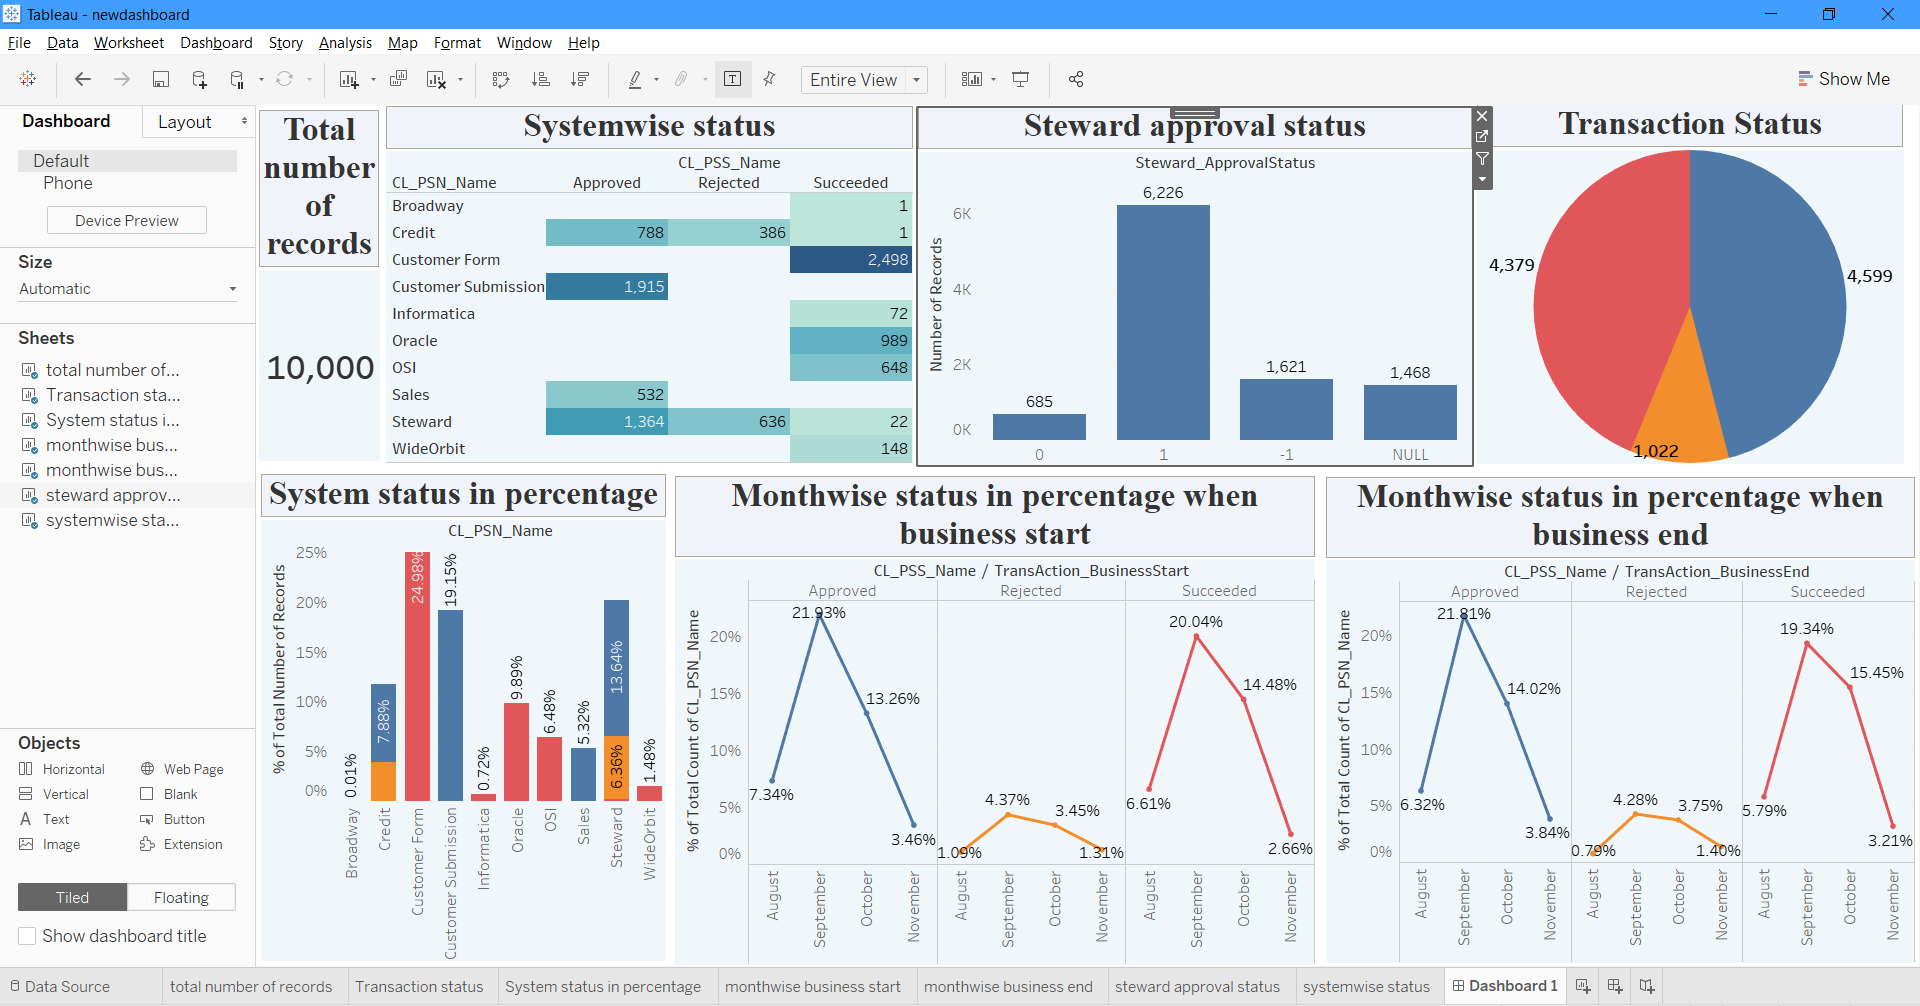

The dashboard page shown, as its layout file describes it:
{"tool":"tableau","page":{"name":"Dashboard 1","canvas":[1000,1000],"units":"permille","ordinal":0},"visuals":[{"type":"worksheet","title":"systemwise status","mark":"Square","rows":["CL_PSN_Name"],"cols":["CL_PSS_Name"],"box":[78.2,1.2,318.7,415.8]},{"type":"worksheet","title":"steward approval status","mark":"Automatic","rows":["Number of Records"],"cols":["Steward_ApprovalStatus"],"box":[398.1,1.2,333.1,417]},{"type":"worksheet","title":"total number of records","mark":"Automatic","box":[1.8,5.8,75.8,407.7]},{"type":"worksheet","title":"System status in percentage","mark":"Automatic","rows":["Number of Records"],"cols":["CL_PSN_Name"],"box":[3,428.6,243.5,565.6]},{"type":"worksheet","title":"monthwise business start","mark":"Automatic","rows":["CL_PSN_Name"],"cols":["CL_PSS_Name","TransAction_BusinessStart"],"box":[252,430.9,384.9,567.9]},{"type":"worksheet","title":"monthwise business end","mark":"Automatic","rows":["CL_PSN_Name"],"cols":["CL_PSS_Name","TransAction_BusinessEnd"],"box":[643.4,432.1,354.2,564.5]}]}

Visuals, with their boxes on the dashboard's canvas, which has no fixed pixel size, in thousandths of its width and height (x1, y1, x2, y2). These are canvas units, not pixel positions in the 1920x1006 screenshot, which may show the page scaled, cropped or inside an application window:
"systemwise status" worksheet (Square marks): x1=78 y1=1 x2=397 y2=417
"steward approval status" worksheet: x1=398 y1=1 x2=731 y2=418
"total number of records" worksheet: x1=2 y1=6 x2=78 y2=414
"System status in percentage" worksheet: x1=3 y1=429 x2=246 y2=994
"monthwise business start" worksheet: x1=252 y1=431 x2=637 y2=999
"monthwise business end" worksheet: x1=643 y1=432 x2=998 y2=997
